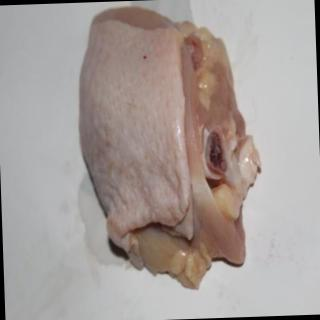Ayam: (74, 1, 268, 295)
